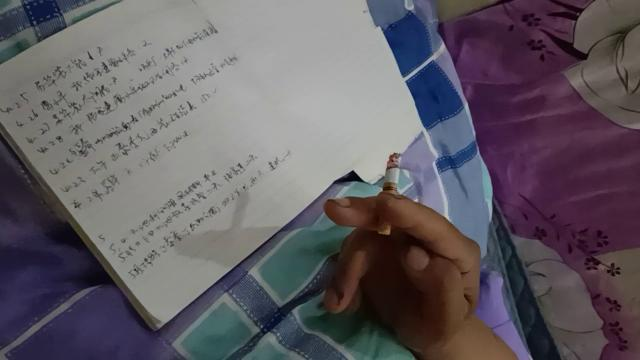Smoking: (376, 152, 402, 236)
